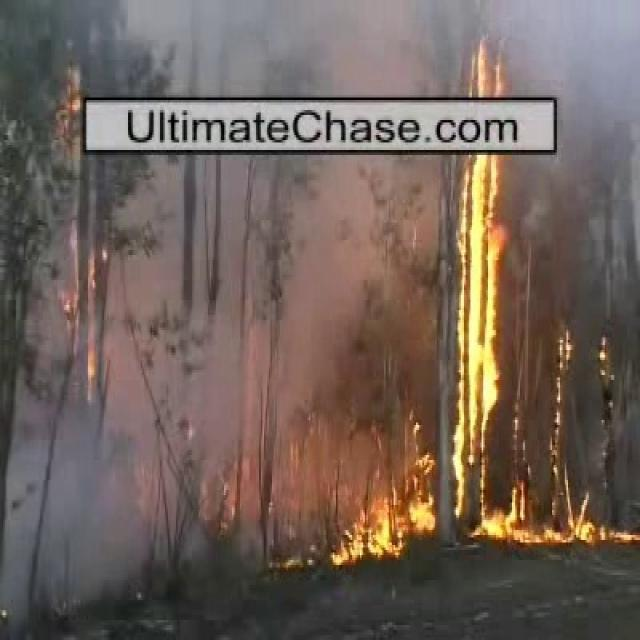Fire: (451, 14, 519, 546), (333, 440, 439, 575), (488, 504, 638, 550)
